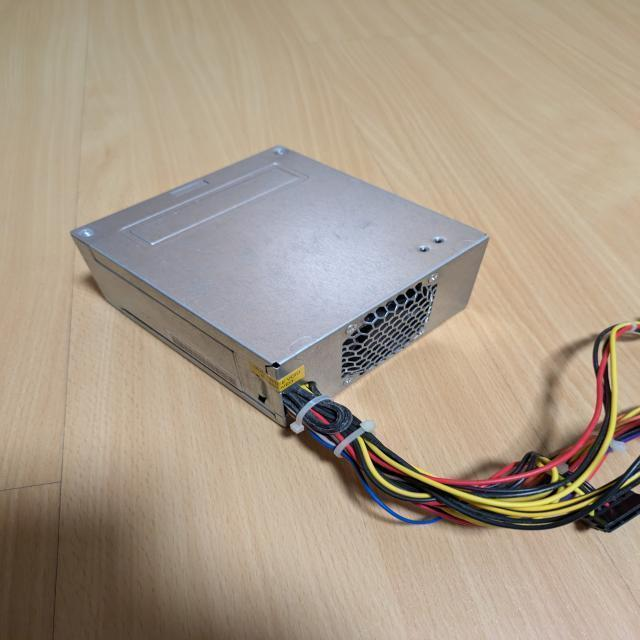PSU: (70, 145, 490, 429)
